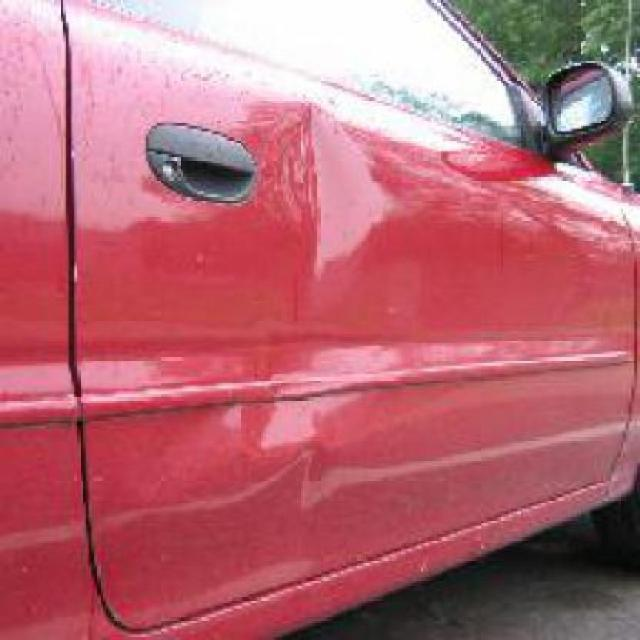dent-or-scratch: (263, 85, 405, 282), (221, 352, 365, 462)
